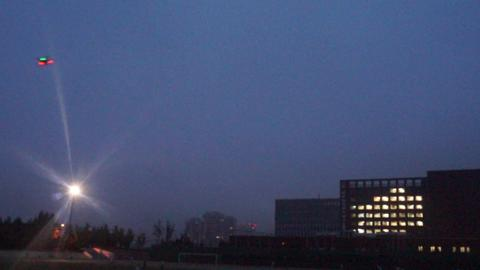UAV: (36, 58, 54, 66)
